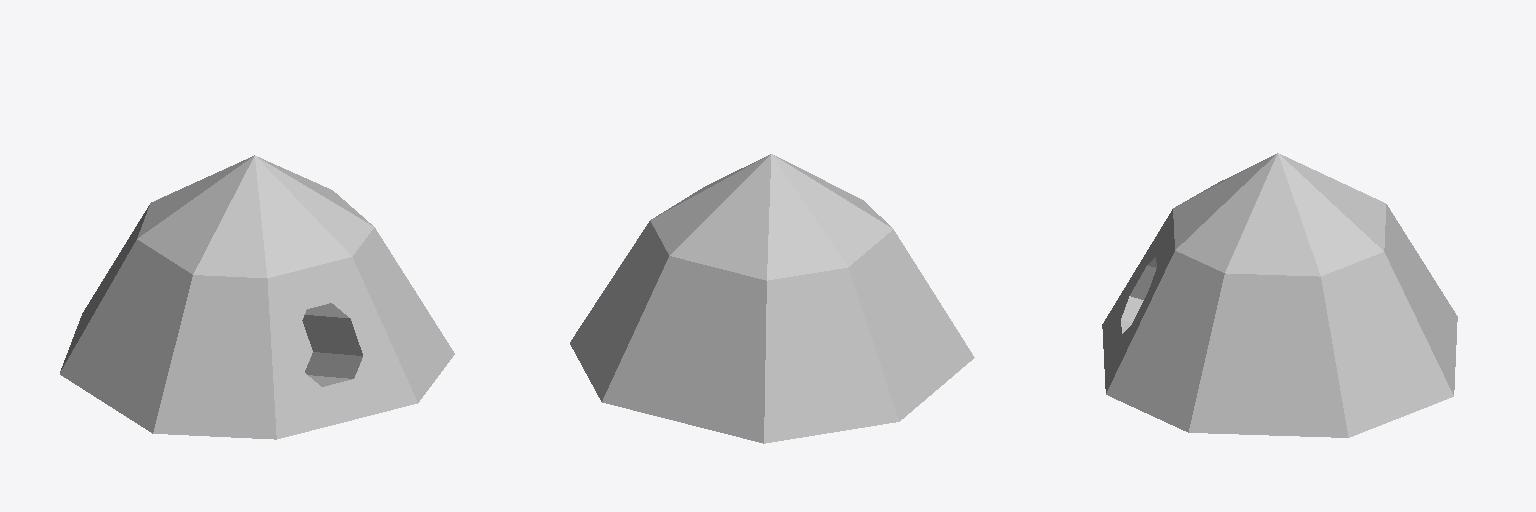
The model's file is torre1c 1.obj.
3 views of the same model, side by side, from view 1: azimuth 30°, elevation 25°; view 2: azimuth 150°, elevation 25°; view 3: azimuth 270°, elevation 25° (orthographic).
Parts seen in each view (by area): view 1: Cube; view 2: Cube; view 3: Cube.
Part boxes in pixels (x1,y1,x2,y2): Cube: (60, 155, 454, 439); Cube: (570, 154, 974, 443); Cube: (1102, 153, 1457, 437).
Size of the model in its own units: 2.04 by 1.21 by 1.91.